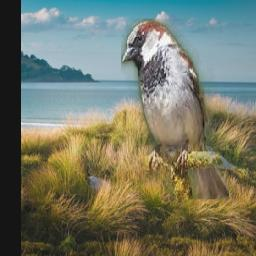Sparrow: (121, 19, 229, 199)
